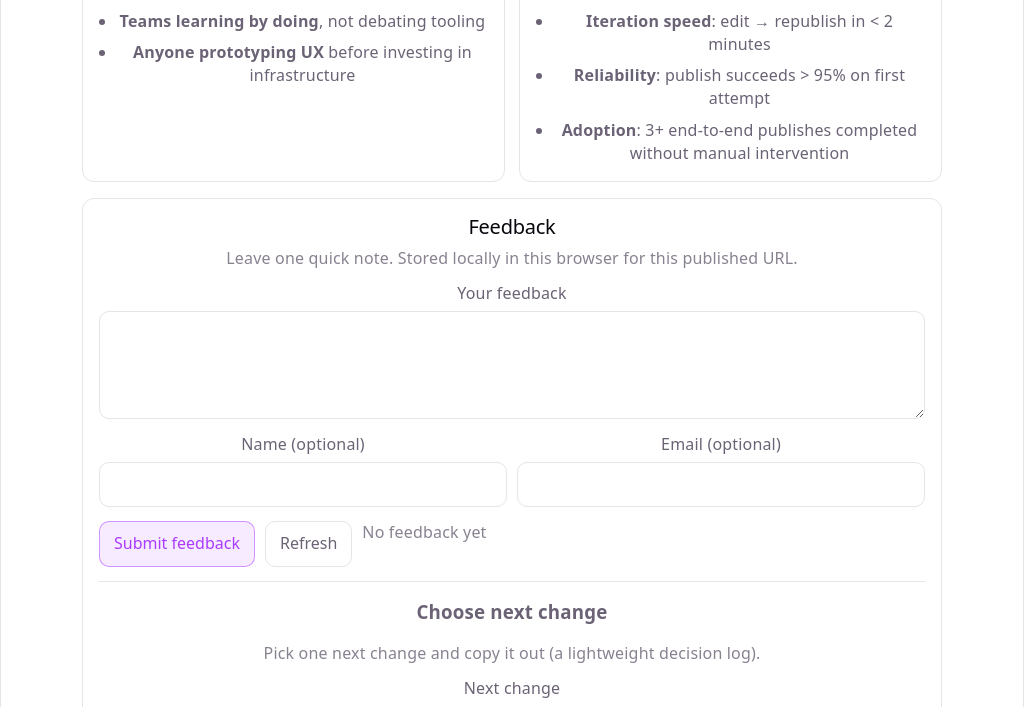
Test case: App › can capture feedback on a published URL
(page scrolled)
Type "Make the CTA clearer" into the text box labelled "Your feedback".
click(512, 365); type("Make the CTA clearer")  # box left=99, top=311, right=925, bottom=419
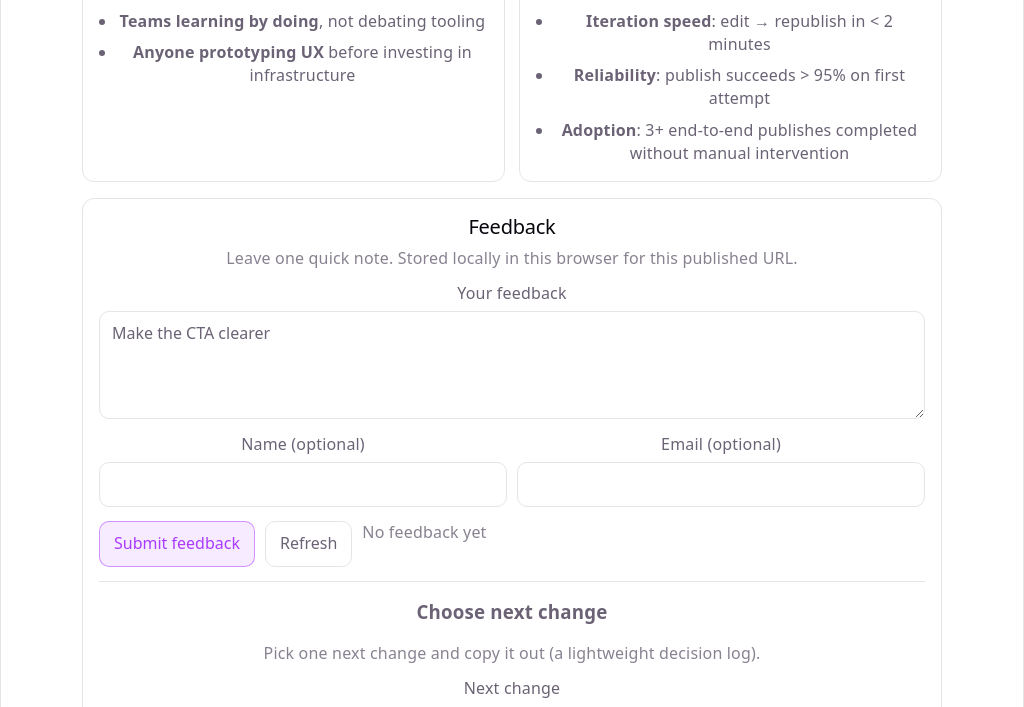
Click the button "Submit feedback".
click(177, 544)  # box left=99, top=521, right=255, bottom=567
(page scrolled)
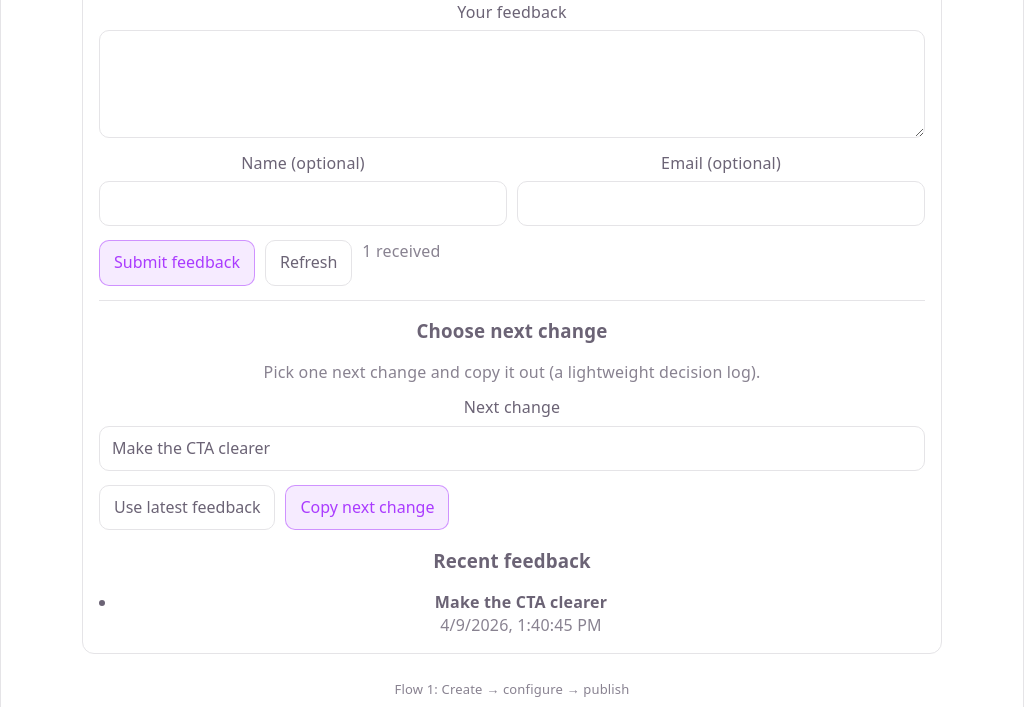
Check: the text "1 received" is shown, box left=362, top=240, right=441, bottom=262
Check: the text "Make the CTA clearer" is shown, box left=435, top=591, right=607, bottom=613
